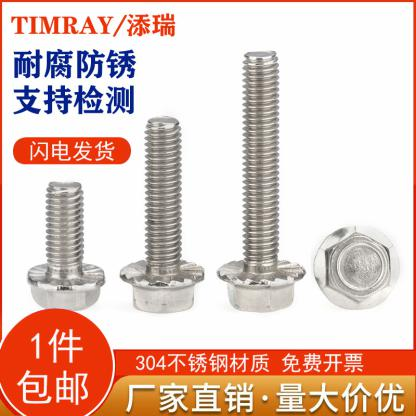FOD: (214, 47, 307, 314), (118, 115, 206, 315), (22, 180, 108, 312), (312, 218, 404, 313)
